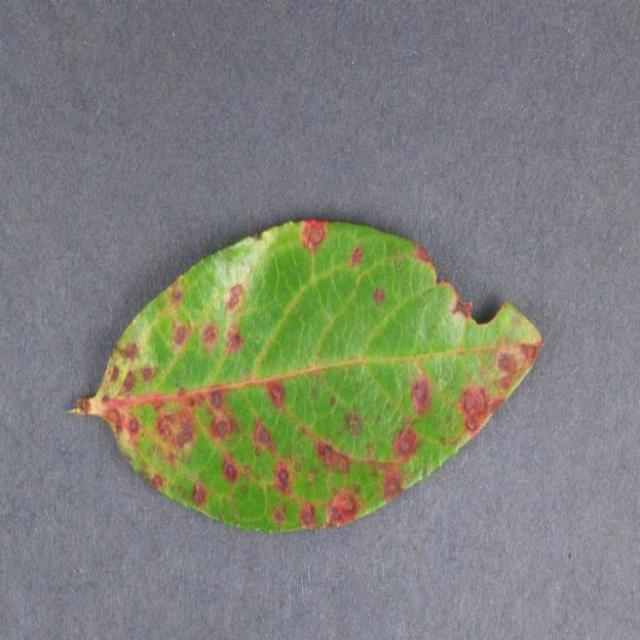leaf_rust: (72, 220, 542, 529)
